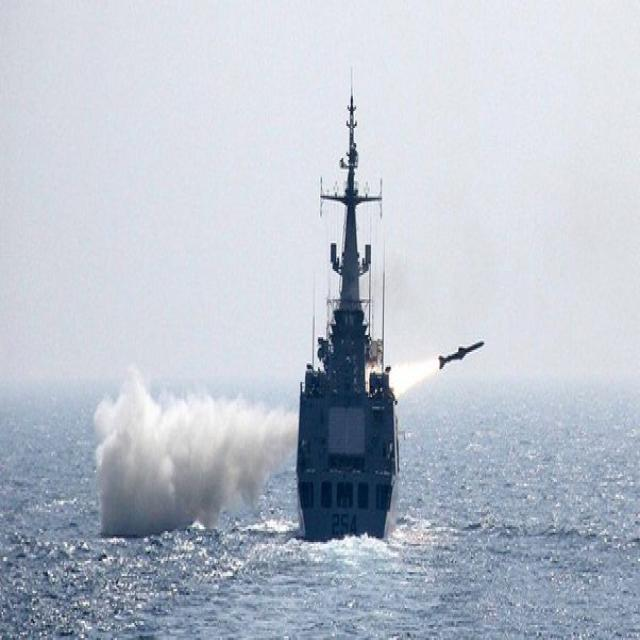Corvette-Azmat-Class-PAK: (297, 82, 404, 540)
